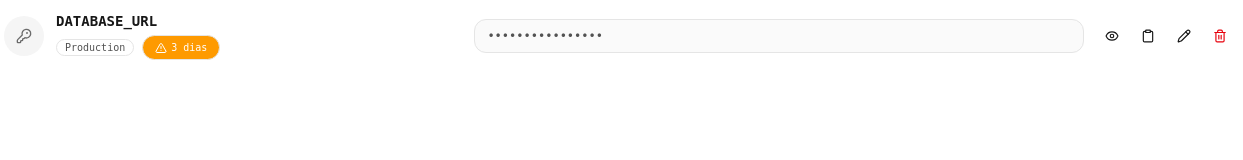
Test: SecretRow › reveals and hides secret values
expect the text "postgres://localhost" is not shown: met
Click the button named "Revelar secret" at coordinates (1112, 36), box [1096,20,1128,52]
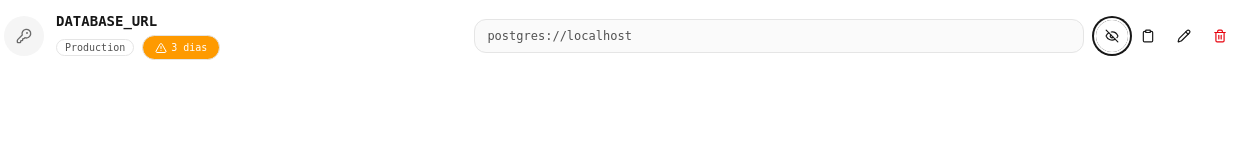
expect the text "postgres://localhost" is shown: met, box [487,28,632,42]
Click the button named "Ocultar secret" at coordinates (1112, 36), box [1096,20,1128,52]
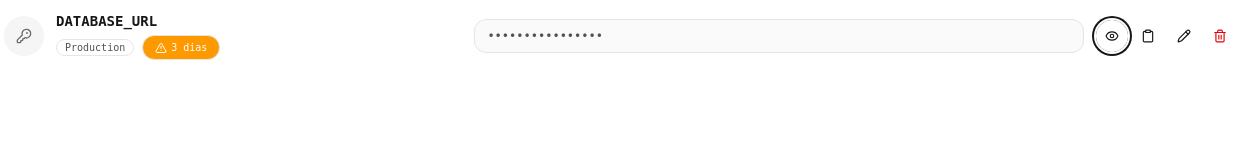
expect the text "postgres://localhost" is gone: met
